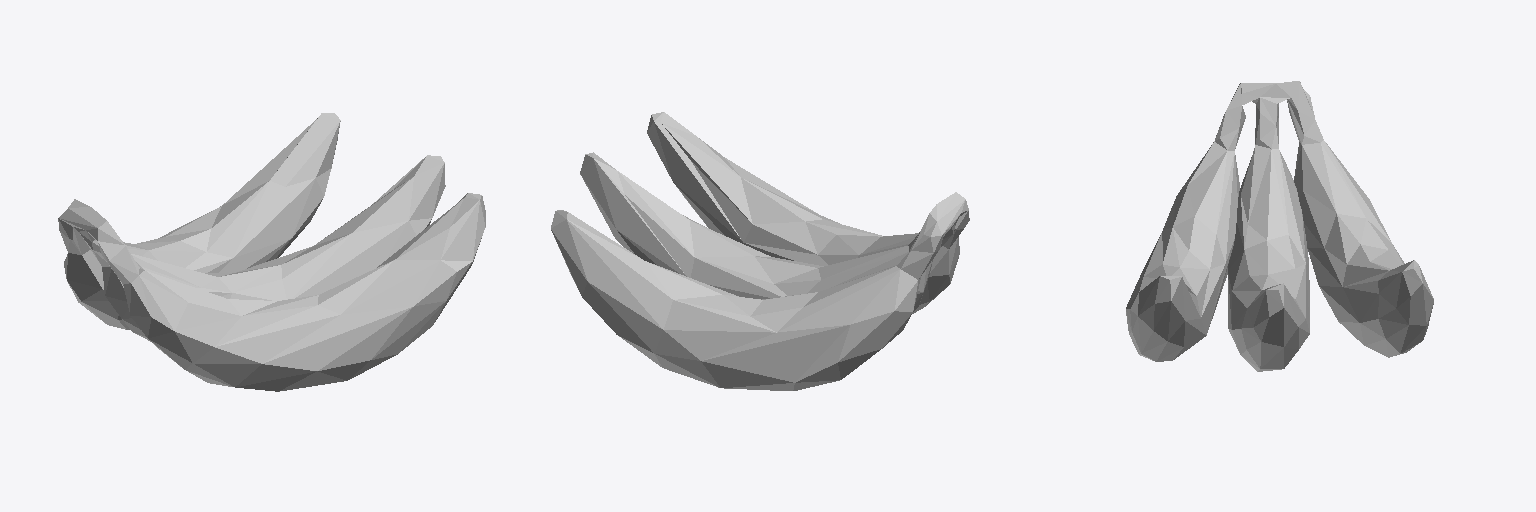
File: banana with texture.obj
3 renders of one model, left to right at view 1: azimuth 30°, elevation 25°; view 2: azimuth 150°, elevation 25°; view 3: azimuth 270°, elevation 25°, orthographic.
Parts seen in each view (by area): view 1: Low_Poly_Banana_Triple.003; view 2: Low_Poly_Banana_Triple.003; view 3: Low_Poly_Banana_Triple.003.
Boxes of the visible parts, box(x1,y1,x2,y2) form: Low_Poly_Banana_Triple.003: box(58, 113, 485, 391); Low_Poly_Banana_Triple.003: box(551, 112, 969, 390); Low_Poly_Banana_Triple.003: box(1126, 81, 1433, 371).
Size of the model in its own units: 0.1299 by 0.0613 by 0.0935.